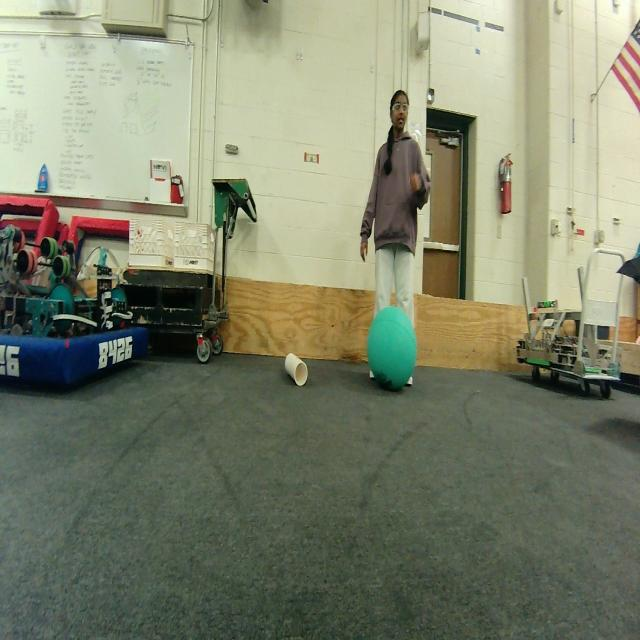algae: (366, 298, 421, 397)
coral: (281, 343, 310, 391)
